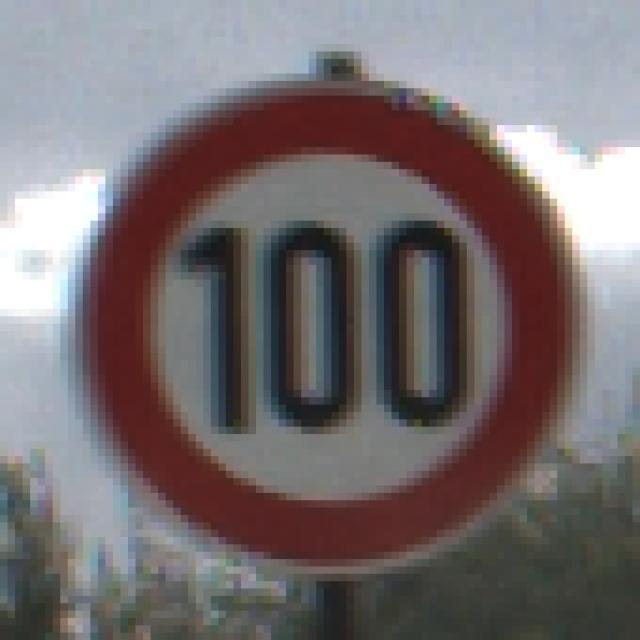speed limit 100: (76, 76, 580, 579)
